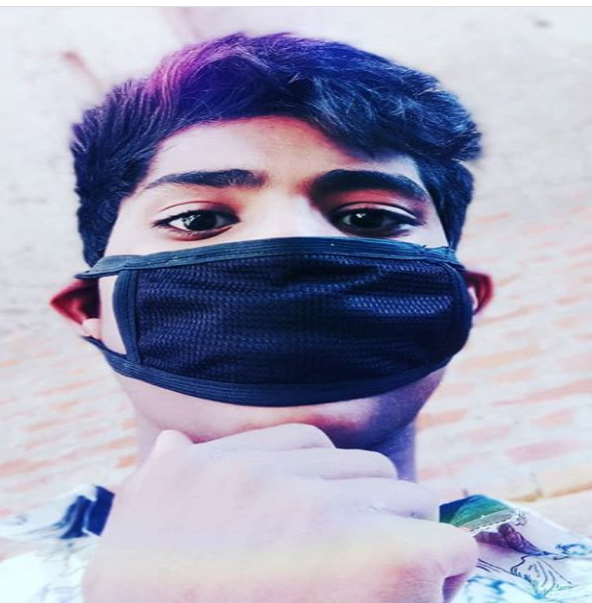mask_weared_incorrect: (55, 34, 496, 457)
